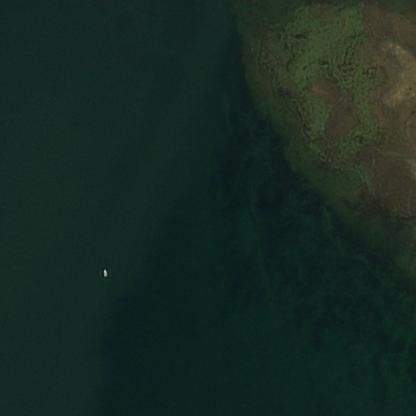ship: (97, 264, 113, 280)
